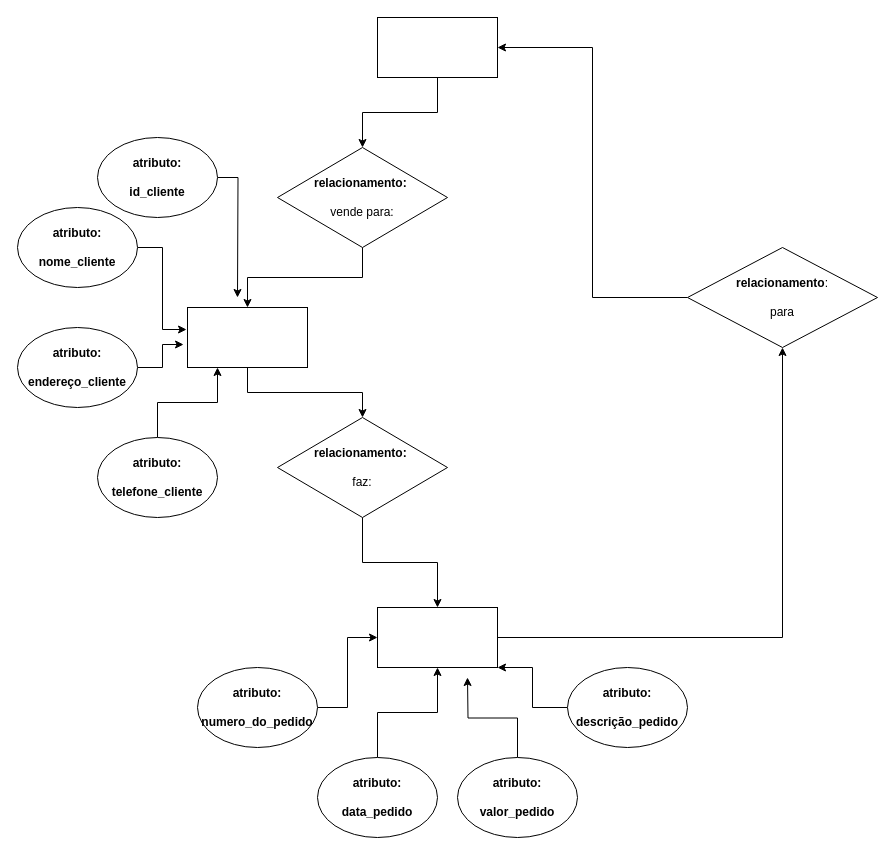
This 895x855 diagram has some shape labels left out. The centre of each missing label's shape, as x and y in pixels:
"entidade forte: cliente" goes at point (247, 337).
"entidade forte: pedidos" goes at point (437, 637).
"entidade forte: vendedor" goes at point (437, 47).
